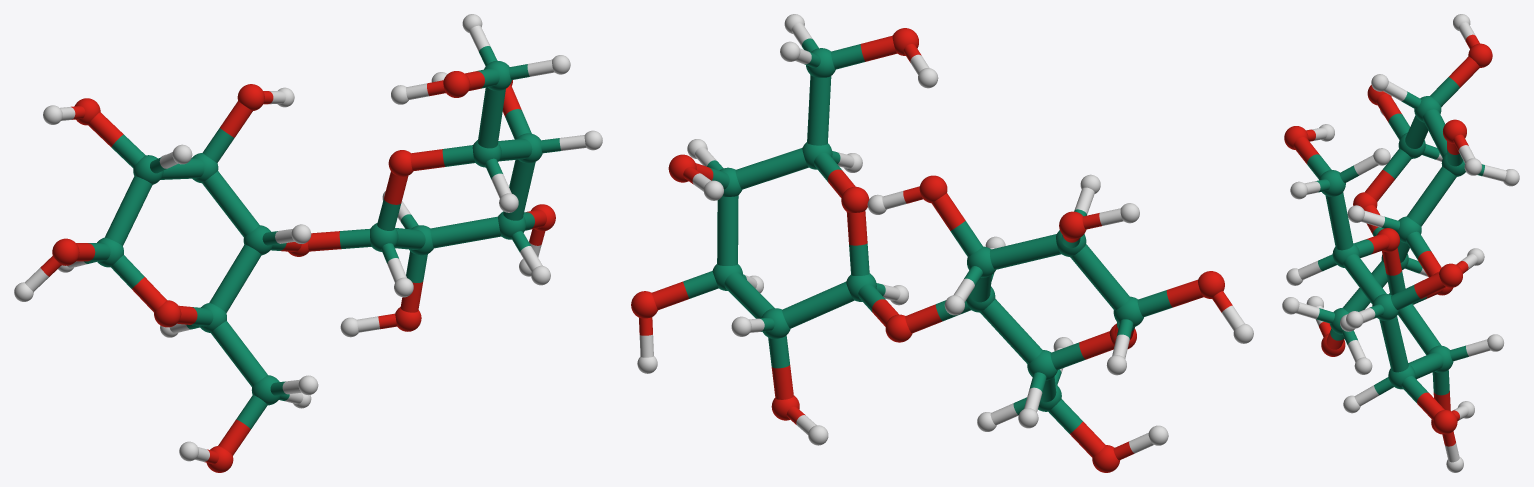
3 views of the same model, side by side, from view 1: azimuth 30°, elevation 25°; view 2: azimuth 150°, elevation 25°; view 3: azimuth 270°, elevation 25° (orthographic). The views are drawn at different scales.
Bounding box in the file's own units: 11.02 × 6.81 × 4.46.
